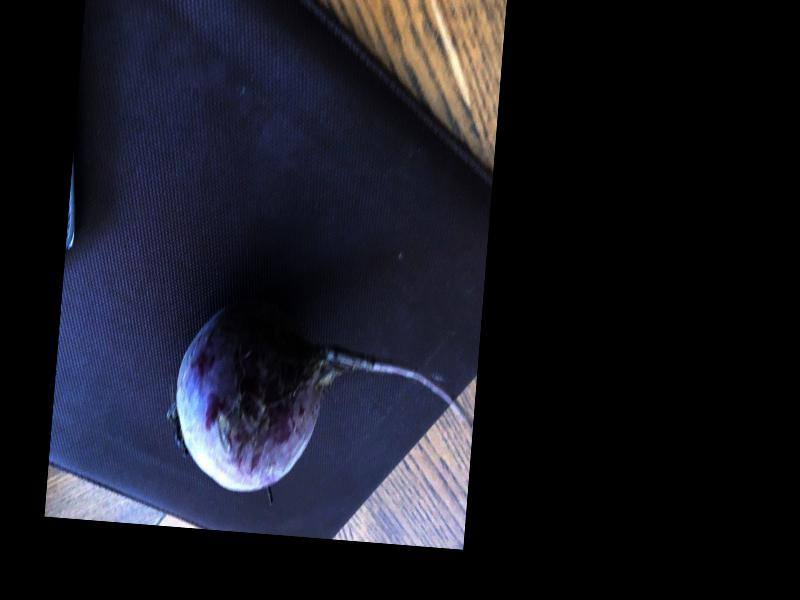Beet: (169, 294, 479, 508)
